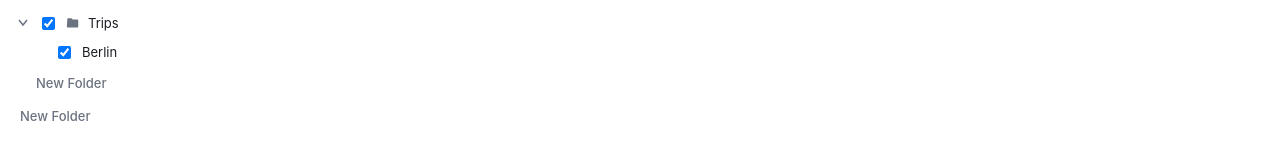
Test: FolderTree › collapses and expands a folder's children
Expected: the button "Berlin" is shown, top-left (82, 42), bottom-right (1264, 62)
Click the button named "Collapse Trips" at [23, 23], box top-left (16, 16), bottom-right (30, 30)
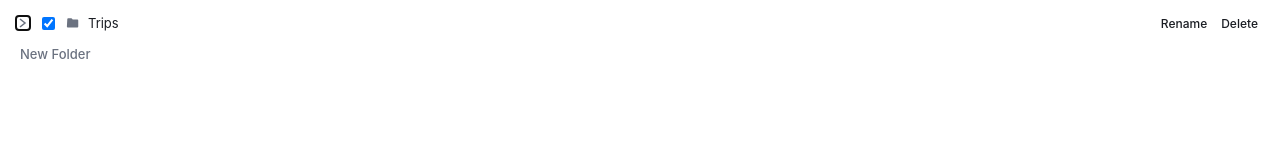
Expected: the button "Berlin" is gone
Click the button named "Expand Trips" at [23, 23], box top-left (16, 16), bottom-right (30, 30)
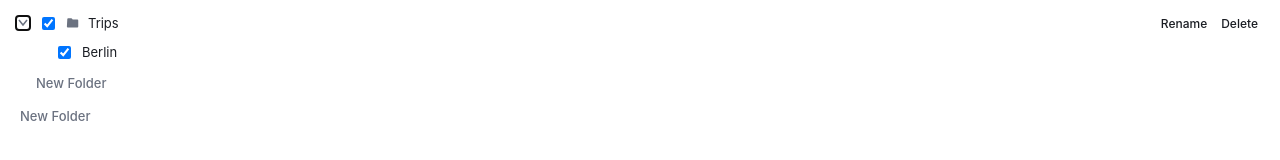
Expected: the button "Berlin" is shown, top-left (82, 42), bottom-right (1264, 62)
